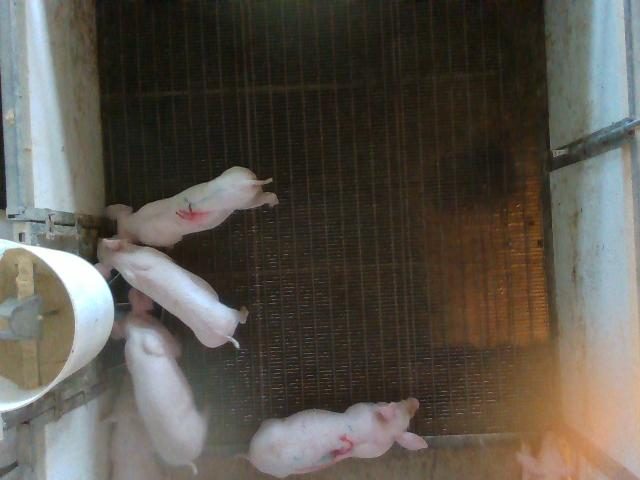pig-3: (248, 398, 427, 477)
pig-4: (106, 166, 278, 247)
